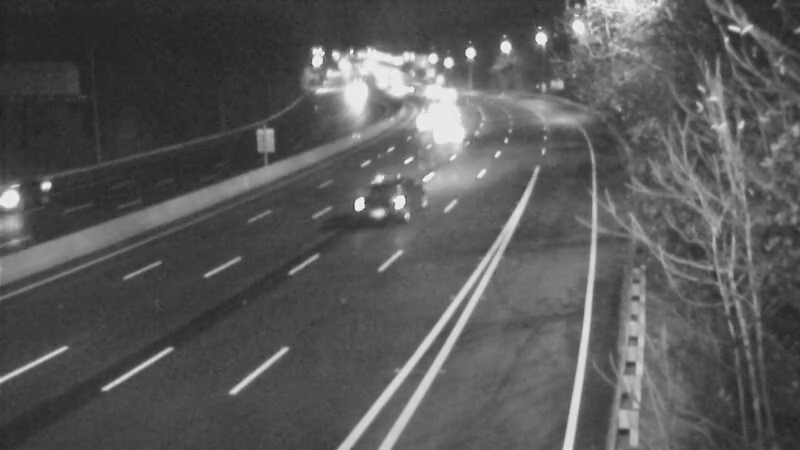vehicle: (345, 156, 425, 236), (1, 159, 77, 239), (402, 63, 452, 113), (420, 71, 470, 121), (420, 86, 470, 136), (403, 96, 453, 146), (426, 108, 476, 158), (329, 69, 379, 119)
